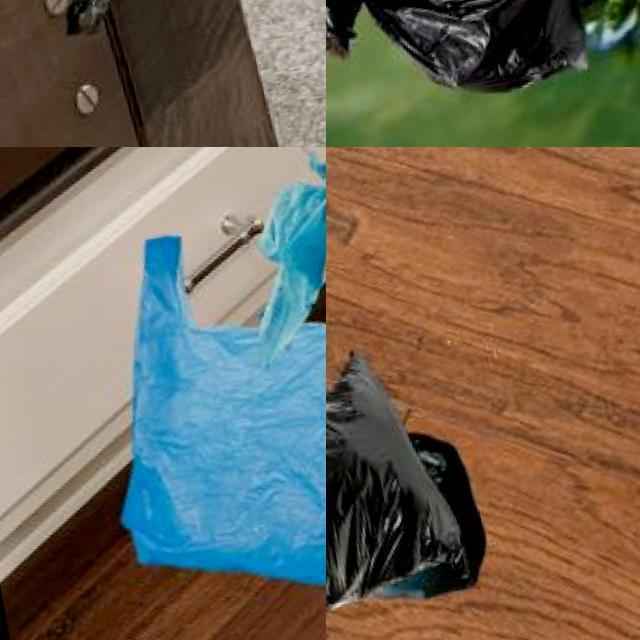waste: (78, 194, 326, 629), (326, 343, 479, 629), (326, 0, 602, 125), (0, 0, 326, 33)
